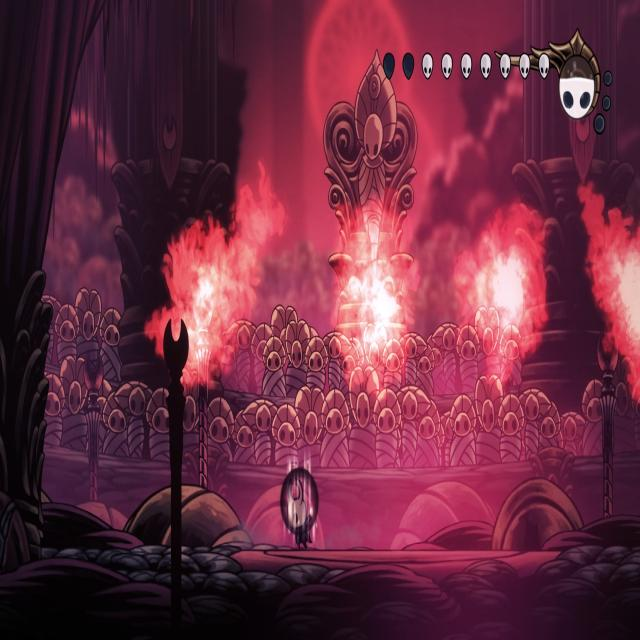Fireball: (157, 261, 235, 376), (464, 243, 534, 352), (339, 260, 404, 366), (608, 231, 640, 389)
